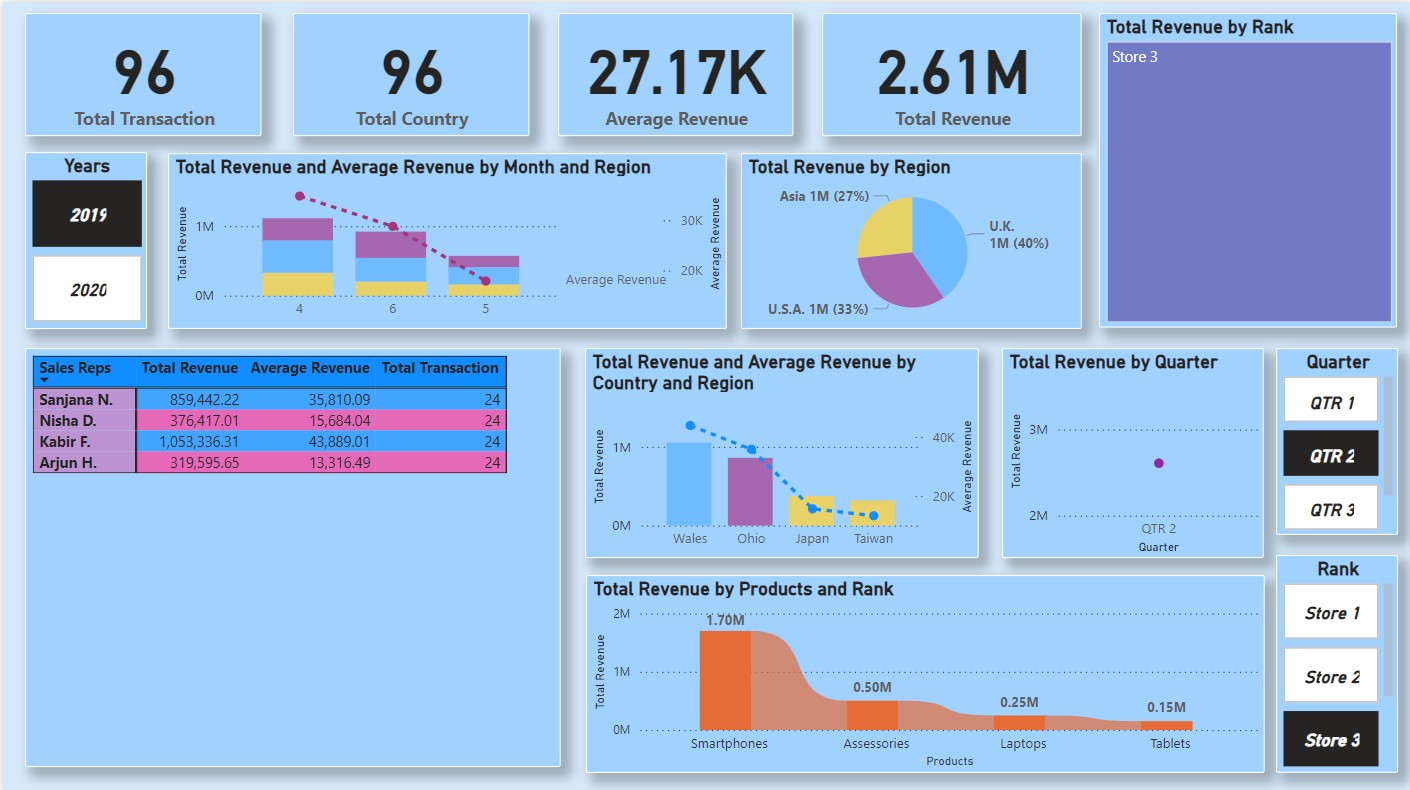

The page's visual inventory and layout, read from the dashboard file:
{"tool":"powerbi","page":{"name":"Page 1","canvas":[1280,720],"ordinal":0},"visuals":[{"type":"card","fields":{"Values":["Measures (2).Total Revenue"]},"box":[744.5,9.7,236.4,112],"z":0},{"type":"card","fields":{"Values":["Measures (2).Total Country"]},"box":[264.1,10.1,214.7,111.9],"z":1000},{"type":"card","fields":{"Values":["Measures (2).Average Revenue"]},"box":[504.9,10.1,213.7,111.9],"z":2000},{"type":"card","fields":{"Values":["Measures (2).Total Transaction"]},"box":[20.3,9.7,215.2,112],"z":3000},{"type":"pieChart","fields":{"Y":["Measures (2).Total Revenue"],"Category":["Sheet1.Region"]},"box":[671.3,137.6,309.6,159.7],"z":4000},{"type":"lineStackedColumnComboChart","fields":{"Y":["Measures (2).Total Revenue"],"Category":["Sheet1.Country"],"Y2":["Measures (2).Average Revenue"],"Series":["Sheet1.Region"]},"box":[529.3,314.9,358.2,191.4],"z":5000},{"type":"treemap","fields":{"Values":["Measures (2).Total Revenue"],"Group":["Sheet1.Rank"]},"box":[996.8,10.1,271.1,286.2],"z":6000},{"type":"areaChart","fields":{"Category":["Sheet1.Quarter"],"Y":["Measures (2).Total Revenue"]},"box":[908.6,314.9,238.2,191.4],"z":7000},{"type":"ribbonChart","fields":{"Category":["Sheet1.Products"],"Y":["Measures (2).Total Revenue"],"Series":["Sheet1.Rank"]},"box":[530.2,521.4,616.6,180],"z":8000},{"type":"lineStackedColumnComboChart","fields":{"Y":["Measures (2).Total Revenue"],"Category":["Sheet1.Month"],"Series":["Sheet1.Region"],"Y2":["Measures (2).Average Revenue"]},"box":[150,137.6,508.1,159.7],"z":9000},{"type":"advancedSlicerVisual","fields":{"Values":["Sheet1.Years"]},"box":[20.3,136.7,111.2,160.6],"z":10000},{"type":"advancedSlicerVisual","fields":{"Values":["Sheet1.Quarter"]},"box":[1157.4,314.9,111.2,170.3],"z":11000},{"type":"advancedSlicerVisual","fields":{"Values":["Sheet1.Rank"]},"box":[1157.4,502.8,111.2,198.5],"z":12000},{"type":"pivotTable","fields":{"Rows":["Sheet1.Sales Reps"],"Values":["Measures (2).Total Revenue","Measures (2).Average Revenue","Measures (2).Total Transaction"]},"box":[20.3,314.9,486.9,381.1],"z":13000}]}

Visuals, with their boxes in screenshot pixels (x1, y1, x2, y2), scaled from the page's 1280x720 canvas onto the 1410x790 screenshot:
card - Measures (2).Total Revenue: Rect(820, 11, 1081, 134)
card - Measures (2).Total Country: Rect(291, 11, 527, 134)
card - Measures (2).Average Revenue: Rect(556, 11, 792, 134)
card - Measures (2).Total Transaction: Rect(22, 11, 259, 134)
pieChart - Measures (2).Total Revenue x Sheet1.Region: Rect(739, 151, 1081, 326)
lineStackedColumnComboChart - Measures (2).Total Revenue x Sheet1.Country: Rect(583, 346, 978, 556)
treemap - Measures (2).Total Revenue x Sheet1.Rank: Rect(1098, 11, 1397, 325)
areaChart - Sheet1.Quarter x Measures (2).Total Revenue: Rect(1001, 346, 1263, 556)
ribbonChart - Sheet1.Products x Measures (2).Total Revenue: Rect(584, 572, 1263, 770)
lineStackedColumnComboChart - Measures (2).Total Revenue x Sheet1.Month: Rect(165, 151, 725, 326)
advancedSlicerVisual - Sheet1.Years: Rect(22, 150, 145, 326)
advancedSlicerVisual - Sheet1.Quarter: Rect(1275, 346, 1397, 532)
advancedSlicerVisual - Sheet1.Rank: Rect(1275, 552, 1397, 769)
pivotTable - Sheet1.Sales Reps x Measures (2).Total Revenue: Rect(22, 346, 559, 764)
